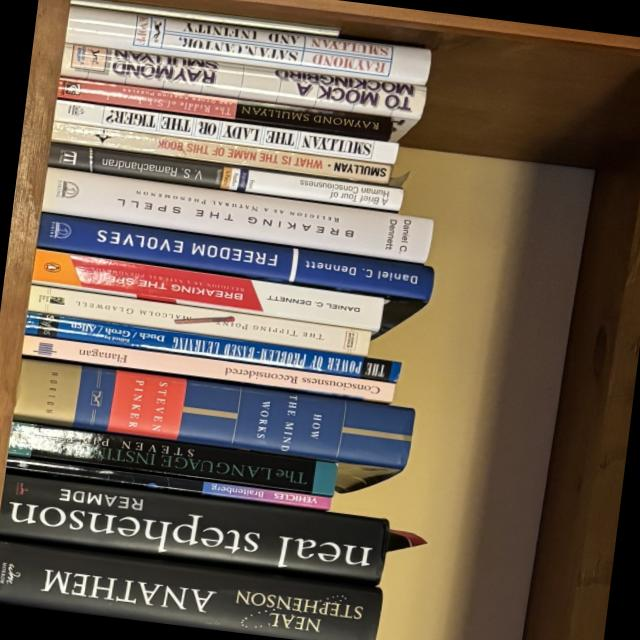book: (8, 356, 414, 499), (31, 211, 434, 336), (0, 471, 389, 586), (40, 166, 433, 264), (0, 540, 382, 640), (56, 43, 425, 143), (29, 247, 384, 333), (64, 5, 431, 86), (24, 312, 400, 383), (20, 333, 394, 404), (6, 419, 337, 498), (46, 141, 402, 213), (27, 284, 370, 357), (53, 97, 398, 167), (55, 76, 392, 142), (49, 121, 390, 185), (4, 455, 331, 510)
